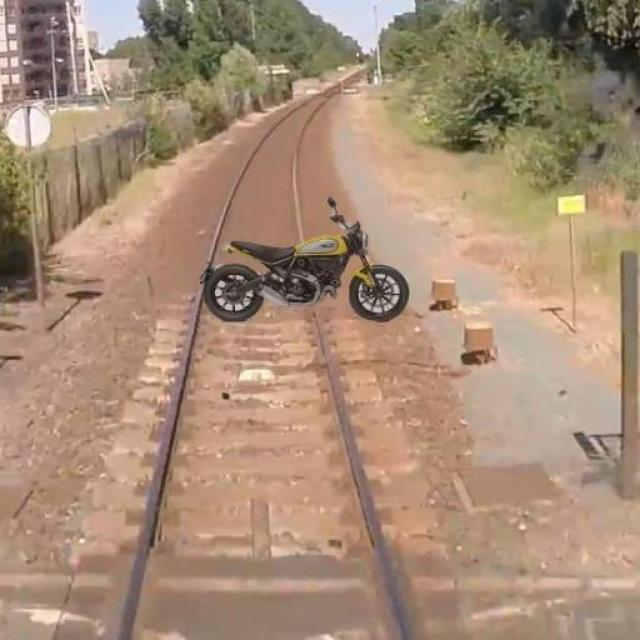vehicle: (199, 193, 412, 327)
